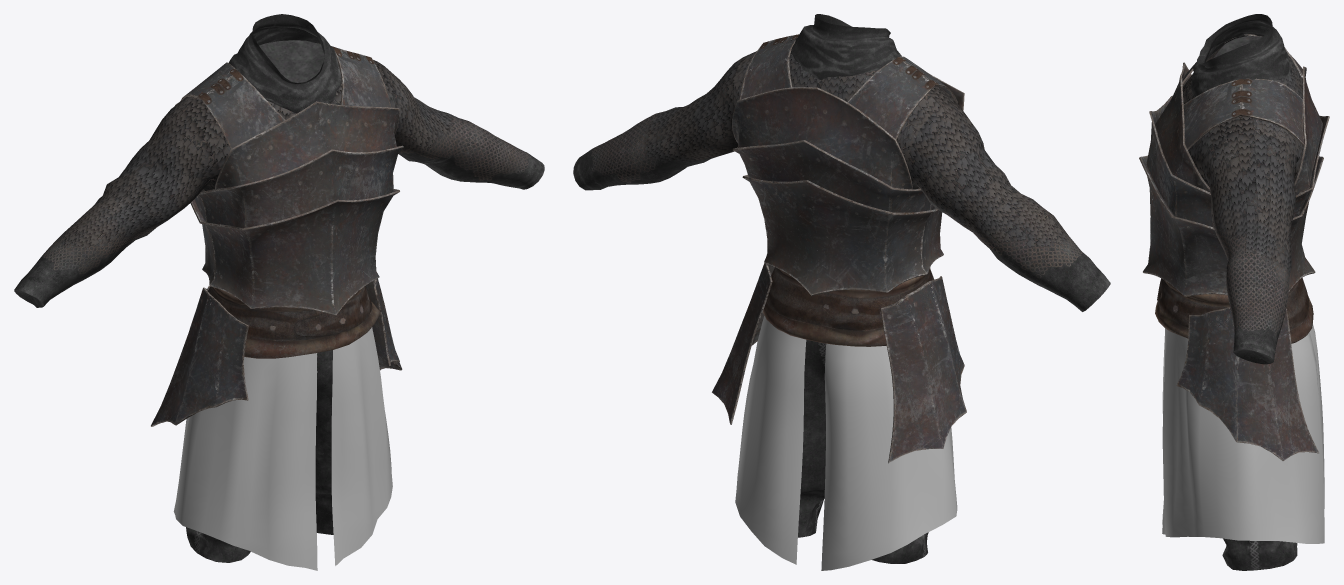
The model's file is sk_dg_uruk_chest_heavy_d.fbx.
The picture shows the model from 3 angles, left to right: view 1: azimuth 30°, elevation 25°; view 2: azimuth 150°, elevation 25°; view 3: azimuth 270°, elevation 25°; orthographic projection. The views are drawn at different scales.
Visible parts, largest first — view 1: sk_dg_uruk_chest_heavy_d.2, sk_dg_uruk_chest_heavy_d.skirt.0, sk_dg_uruk_chest_heavy_d.1, sk_dg_uruk_chest_heavy_d.0, sk_dg_uruk_chest_heavy_d.skirt.1; view 2: sk_dg_uruk_chest_heavy_d.2, sk_dg_uruk_chest_heavy_d.1, sk_dg_uruk_chest_heavy_d.skirt.0, sk_dg_uruk_chest_heavy_d.skirt.1, sk_dg_uruk_chest_heavy_d.0; view 3: sk_dg_uruk_chest_heavy_d.1, sk_dg_uruk_chest_heavy_d.skirt.0, sk_dg_uruk_chest_heavy_d.2, sk_dg_uruk_chest_heavy_d.skirt.1, sk_dg_uruk_chest_heavy_d.0.
Part boxes in pixels (x1,y1,x2,y2): sk_dg_uruk_chest_heavy_d.2: (175,43,403,315); sk_dg_uruk_chest_heavy_d.skirt.0: (173,327,392,570); sk_dg_uruk_chest_heavy_d.1: (14,40,544,358); sk_dg_uruk_chest_heavy_d.0: (186,14,341,562); sk_dg_uruk_chest_heavy_d.skirt.1: (151,278,402,426); sk_dg_uruk_chest_heavy_d.2: (732,34,964,295); sk_dg_uruk_chest_heavy_d.1: (573,51,1110,346); sk_dg_uruk_chest_heavy_d.skirt.0: (735,316,957,570); sk_dg_uruk_chest_heavy_d.skirt.1: (712,254,966,463); sk_dg_uruk_chest_heavy_d.0: (791,14,928,563); sk_dg_uruk_chest_heavy_d.1: (1155,36,1313,364); sk_dg_uruk_chest_heavy_d.skirt.0: (1162,323,1324,543); sk_dg_uruk_chest_heavy_d.2: (1139,34,1329,296); sk_dg_uruk_chest_heavy_d.skirt.1: (1176,307,1318,460); sk_dg_uruk_chest_heavy_d.0: (1190,14,1297,570).
Size of the model in its own units: 1.35 by 0.4319 by 1.28.
